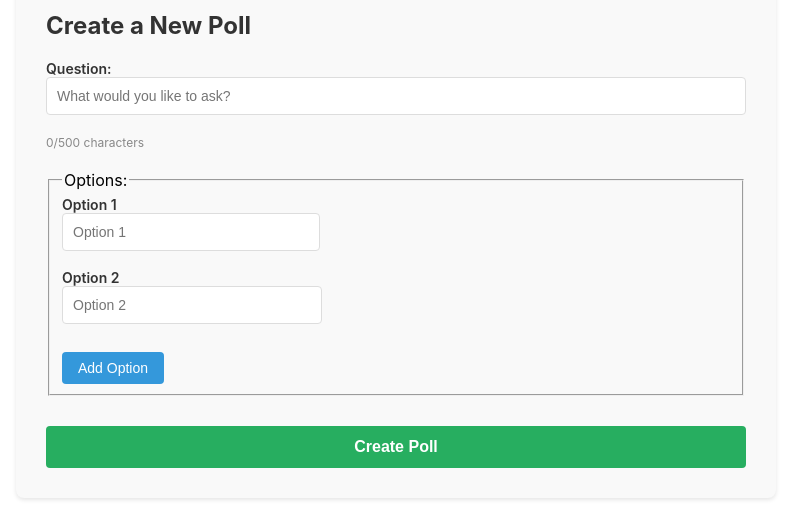
Test: HostDashboard - Option Input Focus (US1) › T005 [US1]: maintains focus when typing multiple consecutive characters
Click into the input to focus it
Click the field with placeholder "Option 1" at (191, 232), box [62, 212, 320, 250]
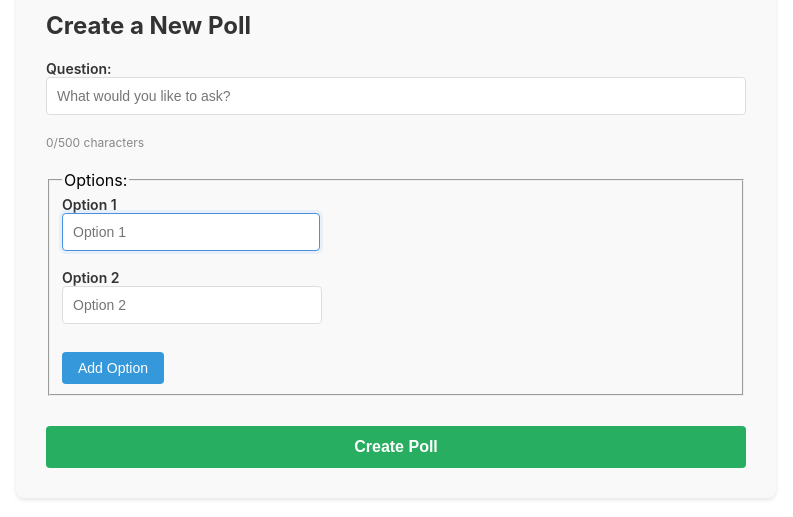
Type multiple characters (more than 10)
Type keys "Option One Text"
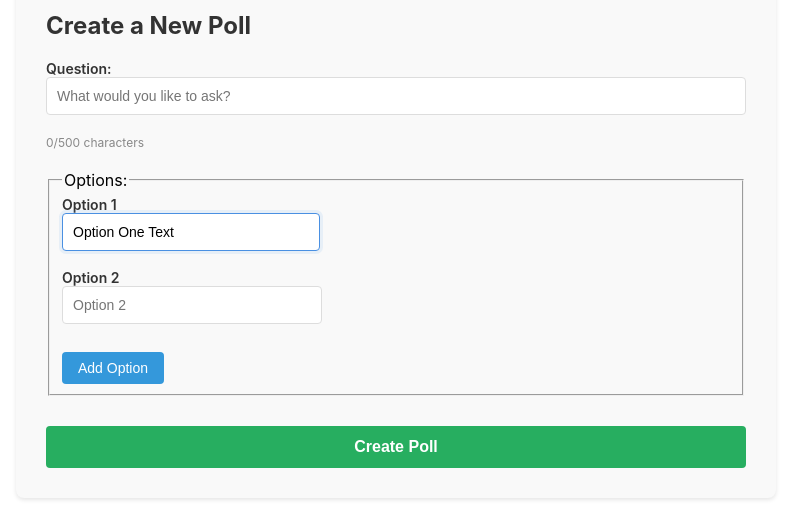
Result: the field with placeholder "Option 1" holds "Option One Text" at [62, 212, 320, 250]
